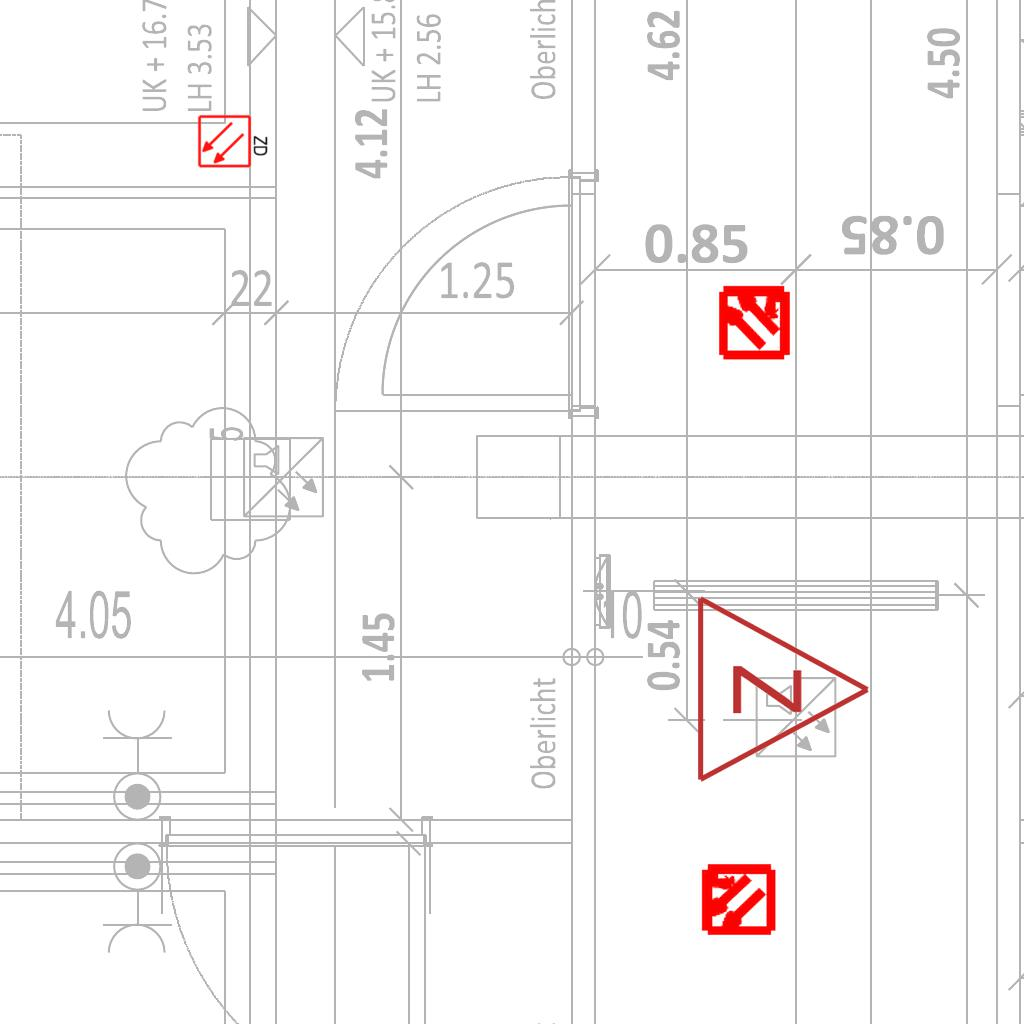OT_Multisensormelder_(Kombination_RMO_WMD): (680, 843, 793, 956), (698, 264, 811, 377)
ZD_Melder_in_Zwischendecke_mit_Revisionsoeffnung_mind_40_x_40_cm: (197, 112, 271, 169)
Zimmersignalleuchte: (683, 589, 883, 785)
